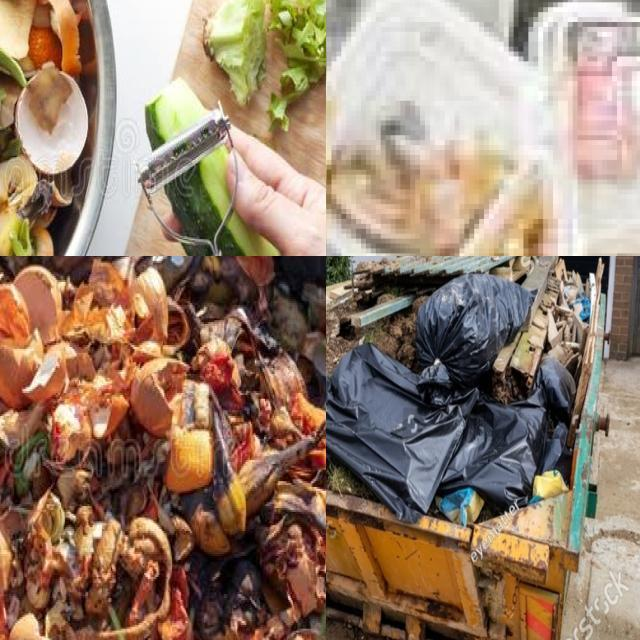Disposable: (326, 0, 530, 256), (532, 0, 640, 256)
Garbage: (0, 256, 326, 640), (326, 0, 640, 256), (326, 256, 599, 525)
Plastic_Bag: (326, 343, 477, 521), (416, 272, 534, 404), (439, 386, 548, 510), (535, 356, 577, 424), (539, 423, 572, 485), (436, 487, 485, 526), (532, 470, 568, 499)
